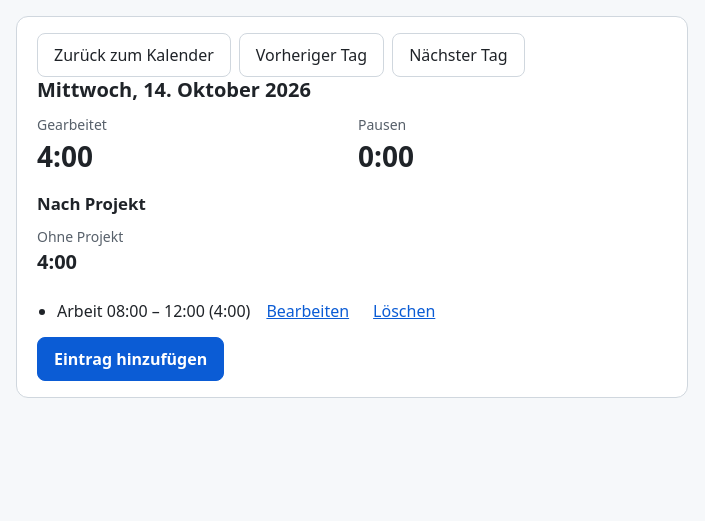
Test: DayDetailView › deletes only after confirmation
The image size is (705, 521).
Click the button "Löschen". click: (404, 311)
box: [365,293,443,329]
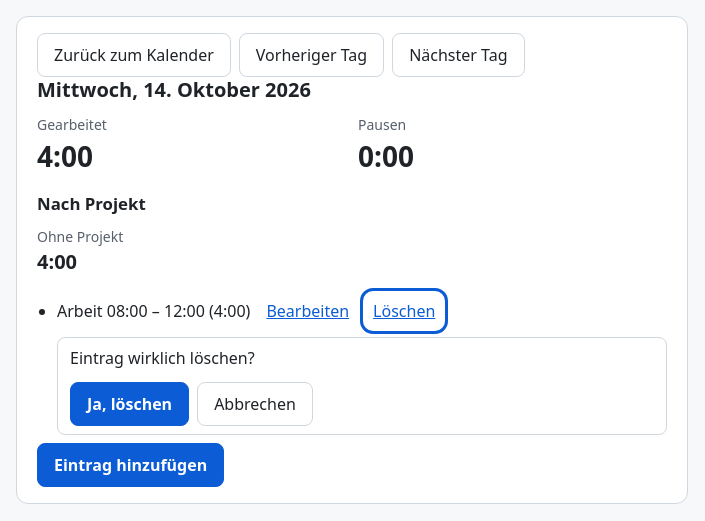
Expected: the text "Eintrag wirklich löschen?" is shown, [70,347,255,369]
Click the button "Abbrechen". click: (255, 404)
box: [197,382,313,426]
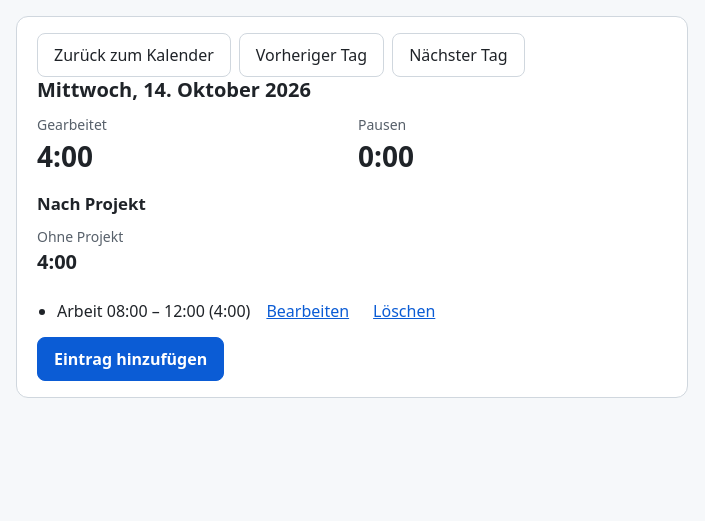
Expected: the text "Arbeit 08:00 – 12:00 (4:00)" is shown, [57,300,250,322]
Click the button "Löschen". click: (404, 311)
box: [365,293,443,329]
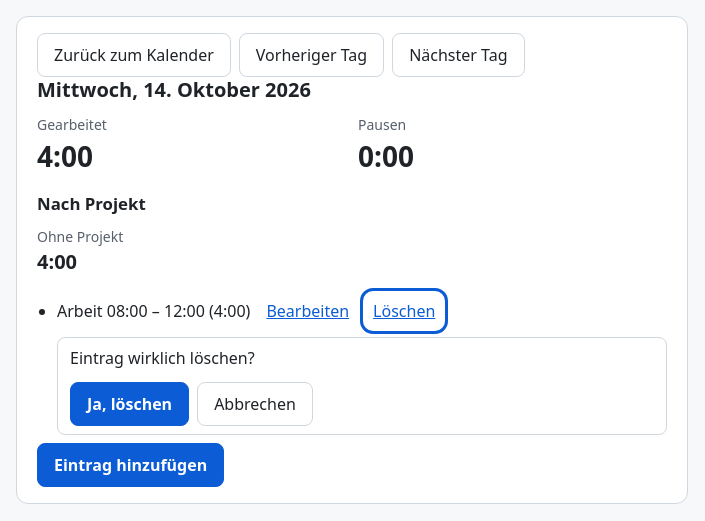
Click the button "Ja, löschen". click: (130, 404)
box: [70,382,189,426]
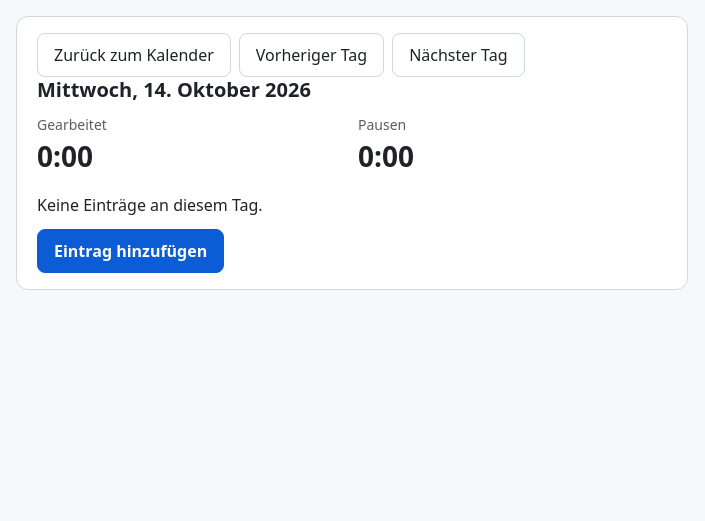
Expected: the text "Keine Einträge an diesem Tag." is shown, [37,194,263,216]
